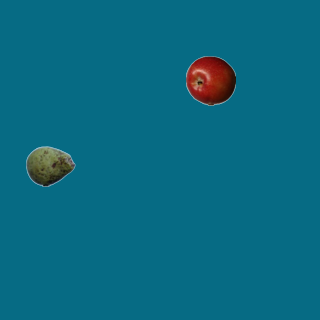Apple Braeburn: (185, 55, 235, 105)
Pear Stone: (25, 141, 75, 191)
